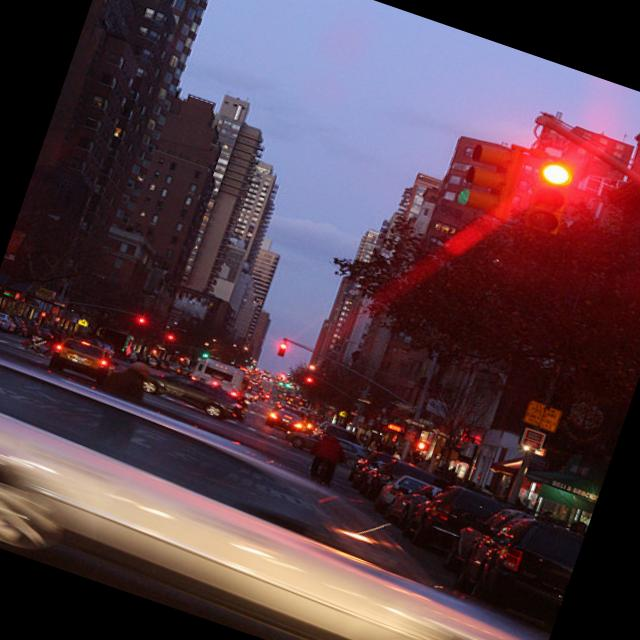Vehicle: (0, 341, 579, 640), (0, 355, 574, 640), (440, 495, 584, 614), (397, 471, 538, 580), (138, 364, 254, 428), (350, 448, 445, 520), (284, 423, 367, 472), (379, 474, 440, 536), (47, 332, 114, 385), (370, 464, 428, 523), (348, 445, 398, 494), (264, 404, 304, 436), (0, 310, 20, 335)
